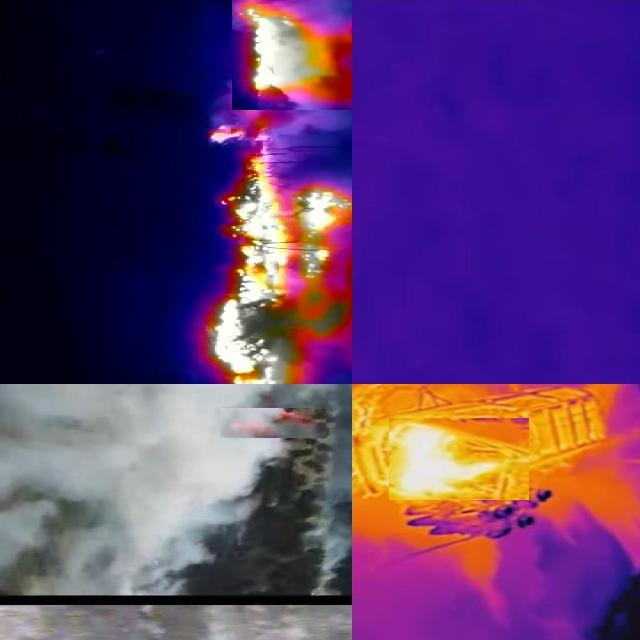fire: (204, 118, 353, 385), (233, 1, 353, 110), (390, 418, 530, 500), (221, 408, 327, 438)
